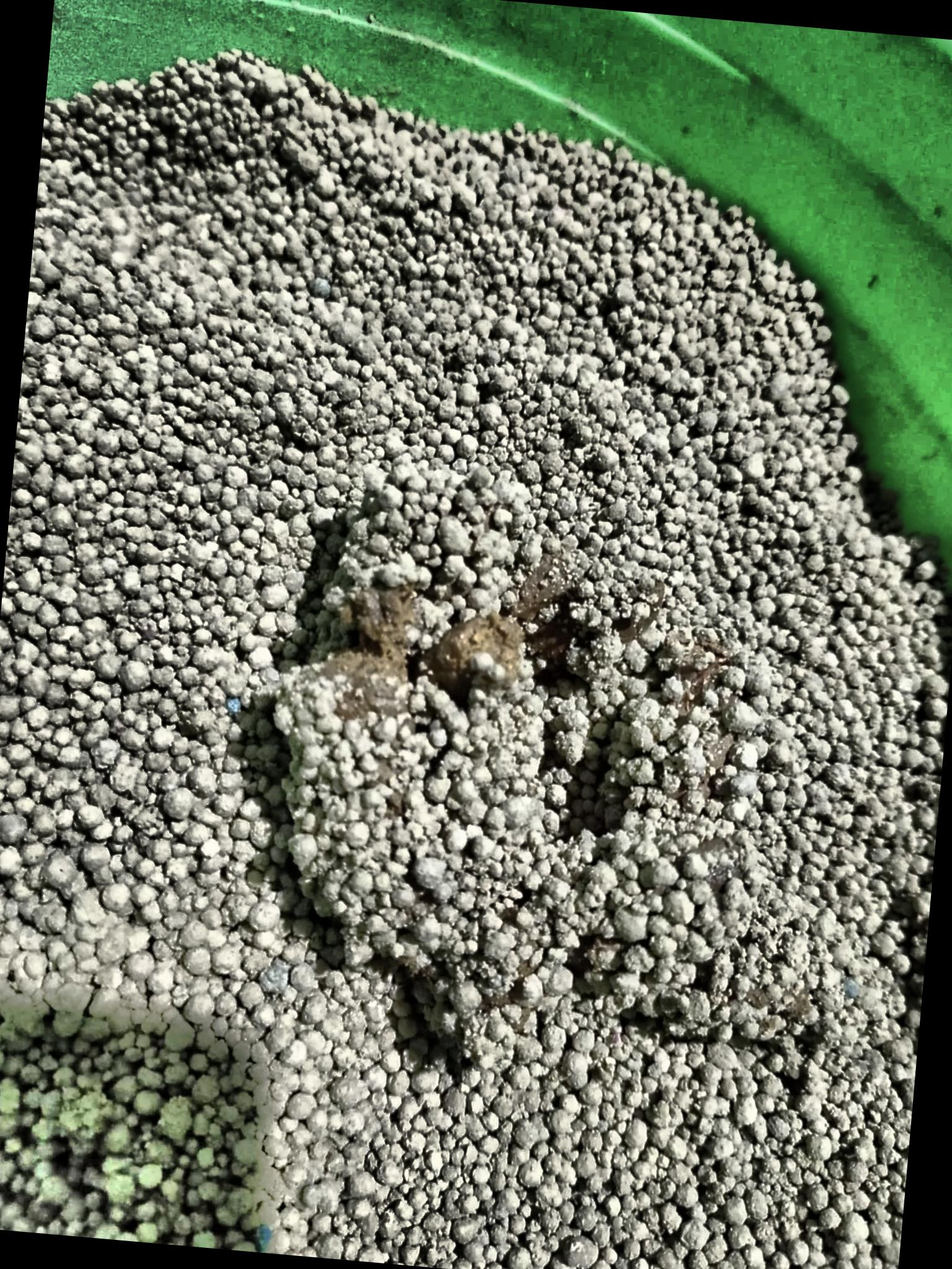poop: (251, 508, 667, 1072), (582, 833, 822, 1043), (596, 626, 759, 828)
